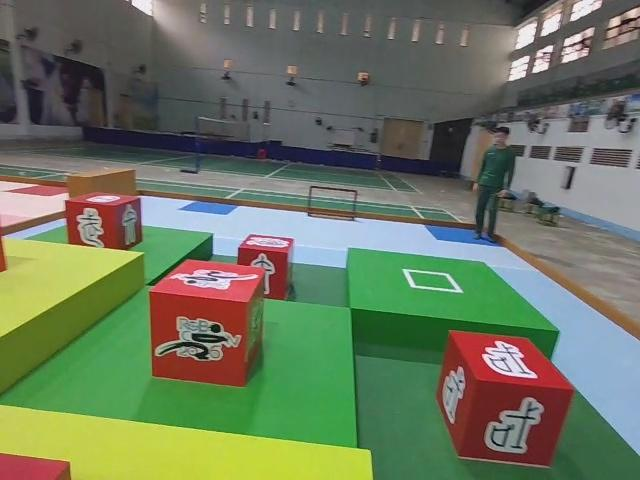R1: (147, 257, 267, 389)
R2 Fake: (65, 189, 144, 251)
R2 Real: (433, 326, 578, 469)
